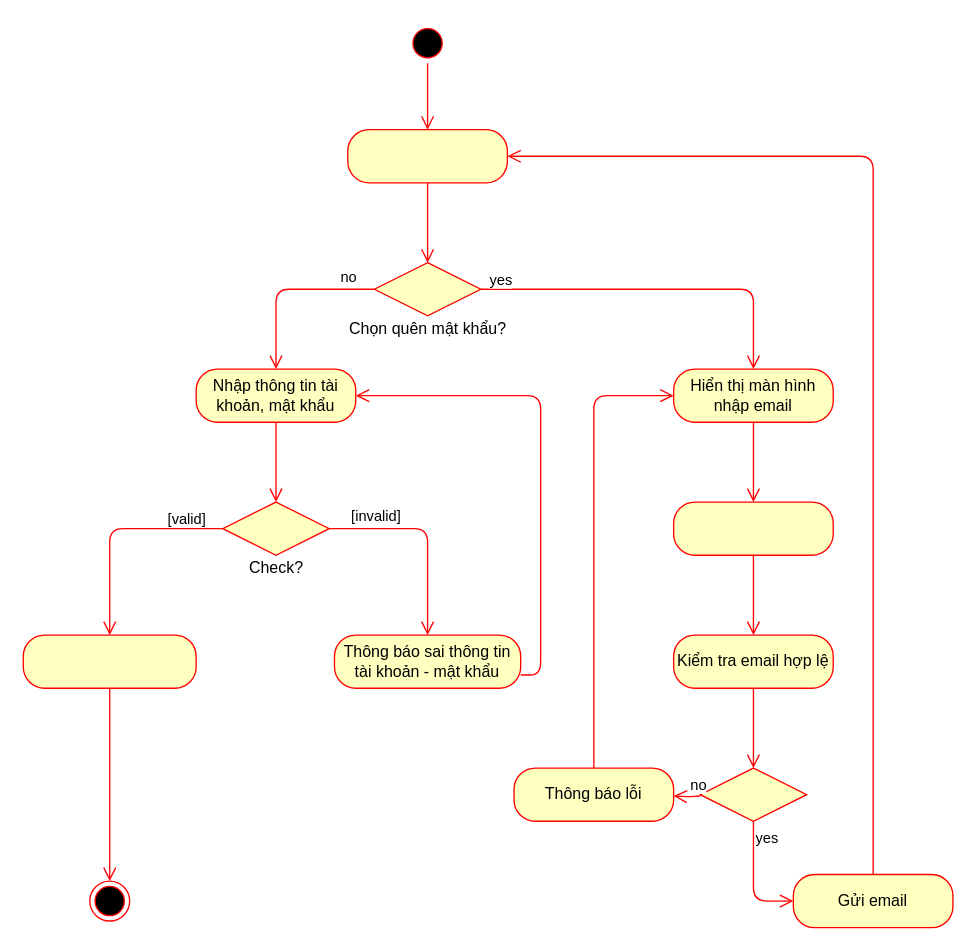
The diagram is 976 pixels wide and 951 high, and some of its shapes have lost their labels. The shapes that lost their labels are listed below. From the top down, each one's centre as x and y in pixels, then its label:
(x=426, y=155): Hiển thị màn hình đăng nhập
(x=752, y=528): Nhập email
(x=109, y=661): Thông báo đăng nhập thành công
